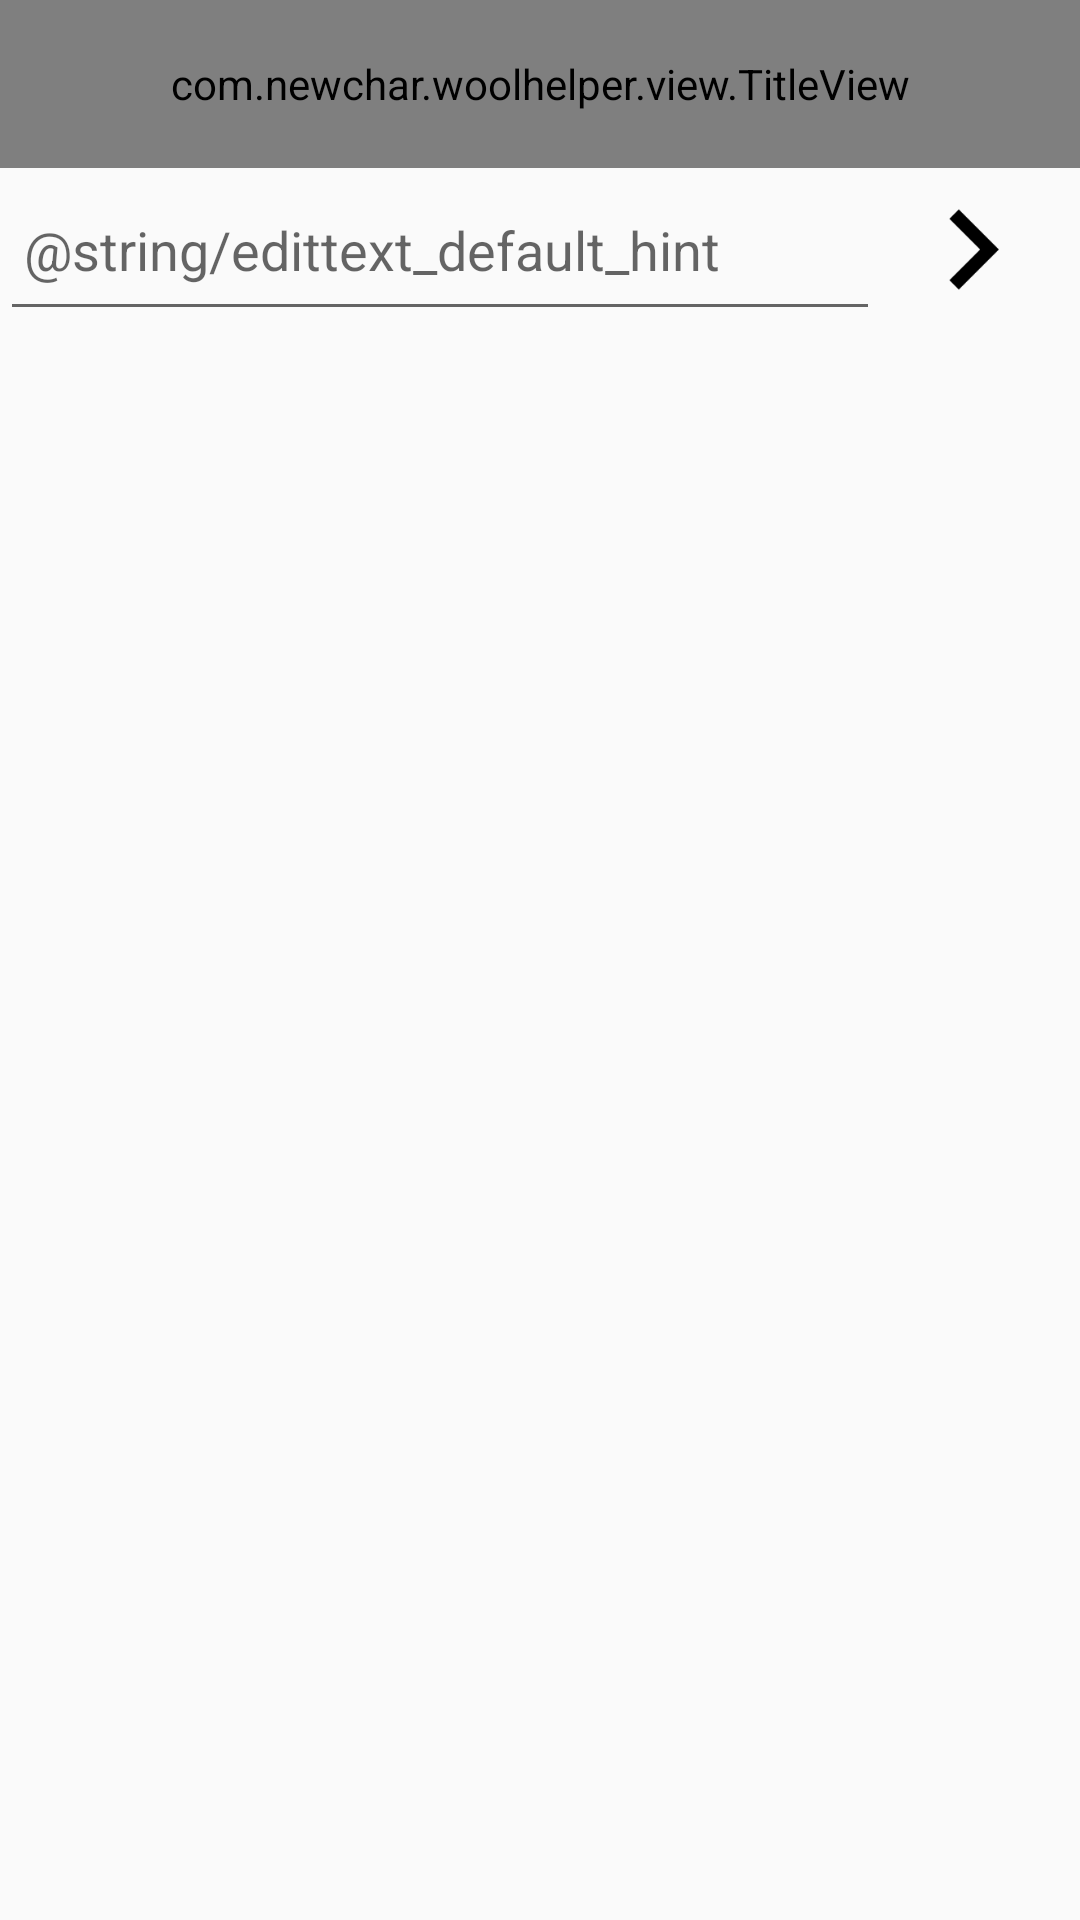

Named icons in this screenshot (1080px×1920px) and their bounding boxes, rect(x1, y1, x2, y2):
arrow right: rect(949, 209, 999, 290)
